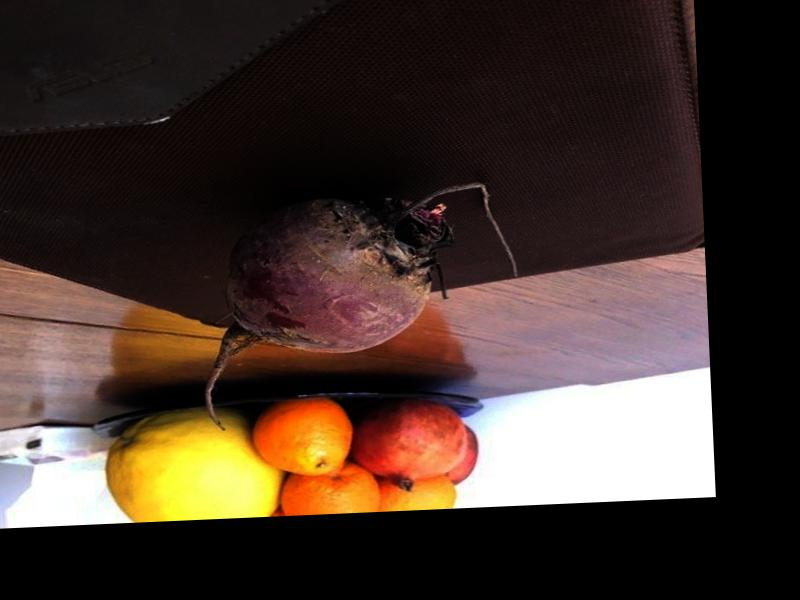Beet: (194, 180, 525, 432)
